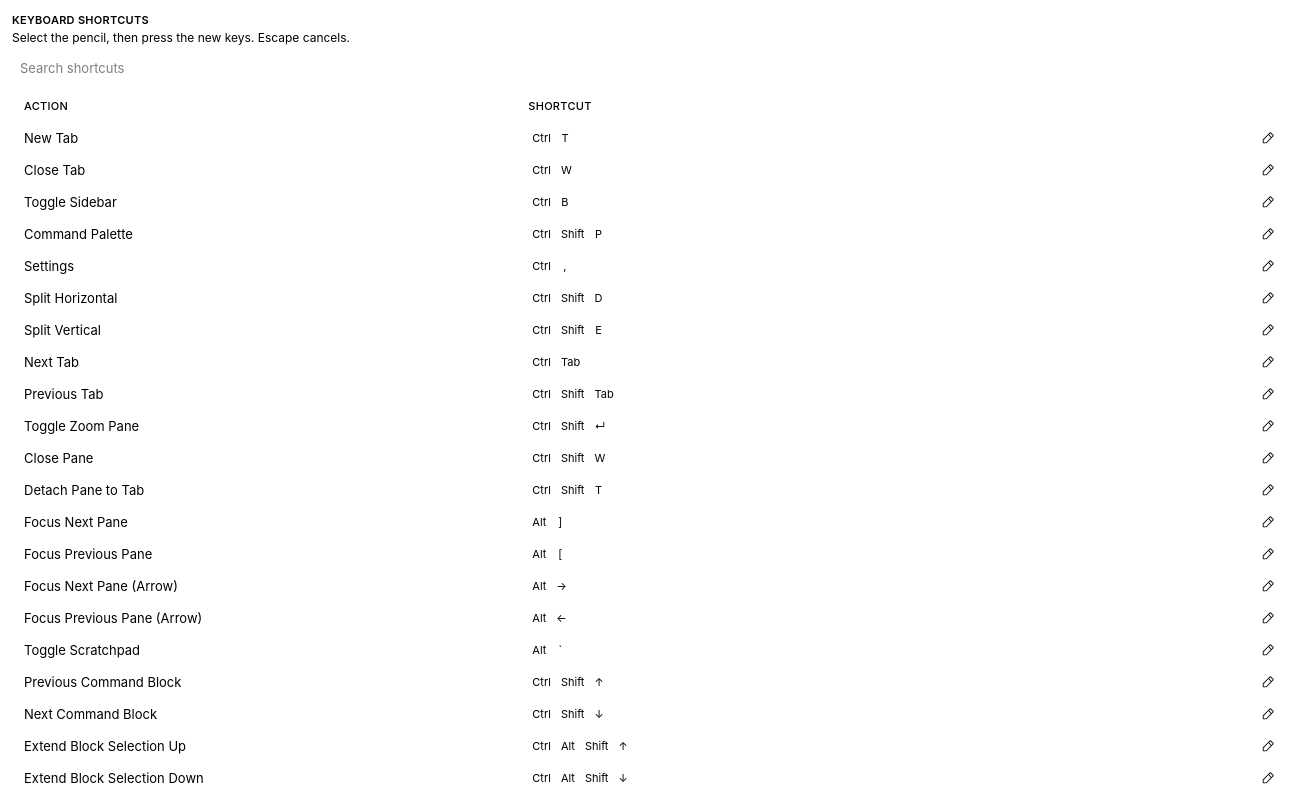
Test: KeybindingsPanel › shows a new conflict as soon as a recorded shortcut clashes
This screenshot has width=1304, height=799.
Step 1. Click the button named "Change shortcut for New Tab" → (1268, 138), box [1256,126,1280,150]
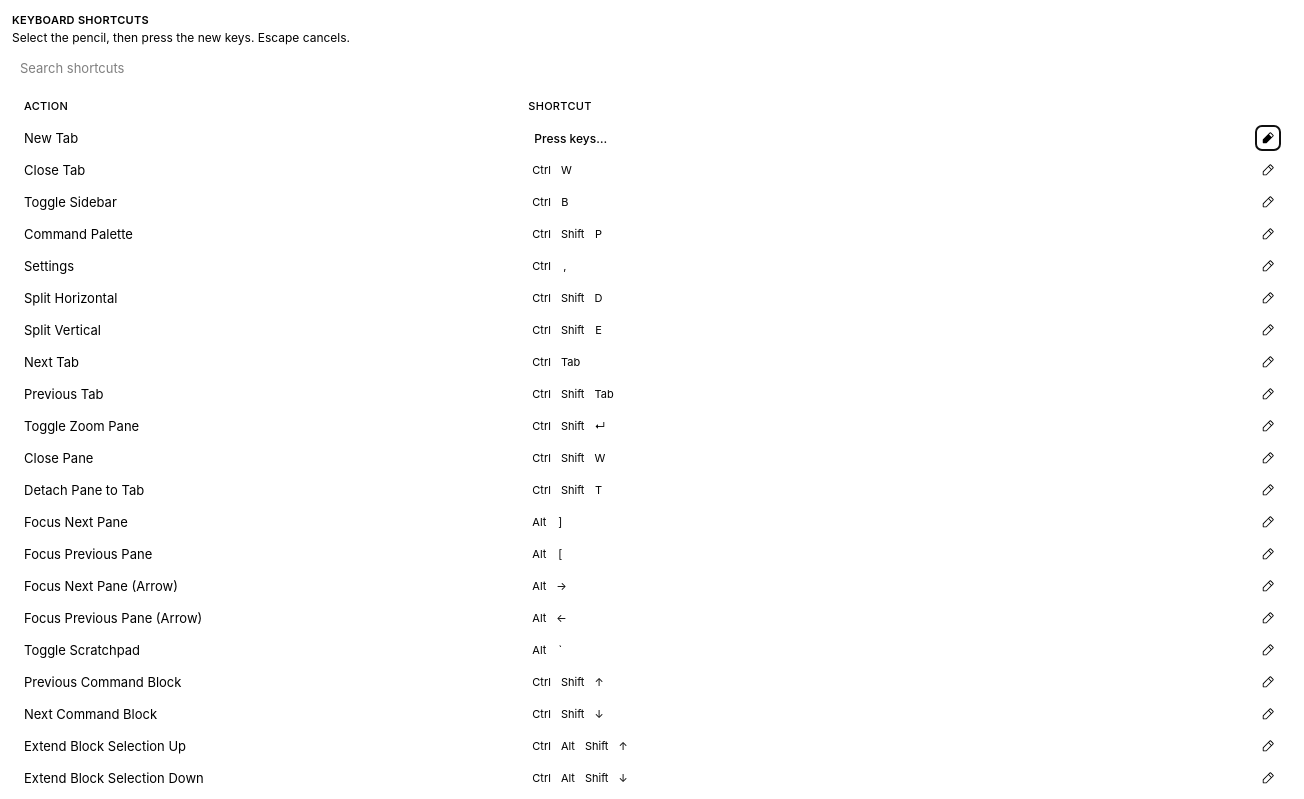
Step 2. Type keys "{Control>}w{/Control}"
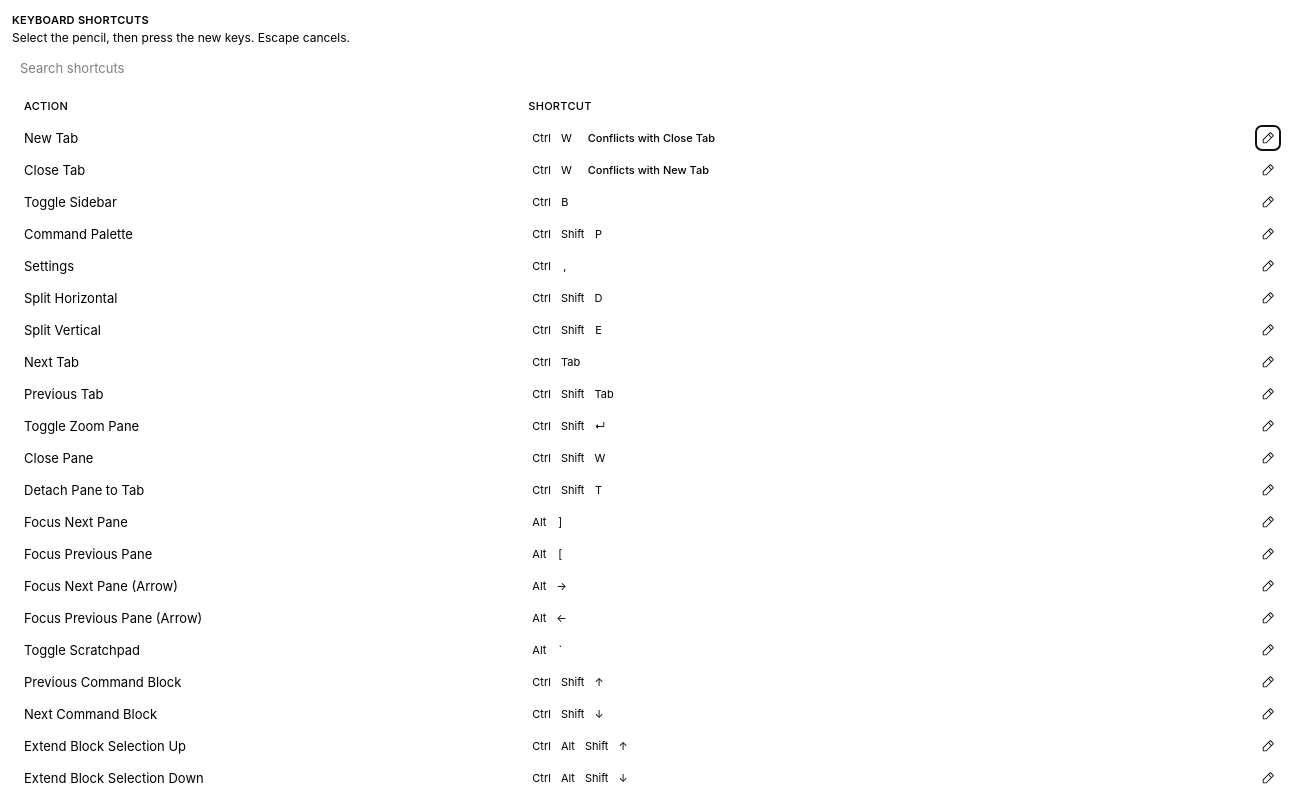
Now the text "Conflicts with Close Tab" is shown, box [584,130,719,146]
